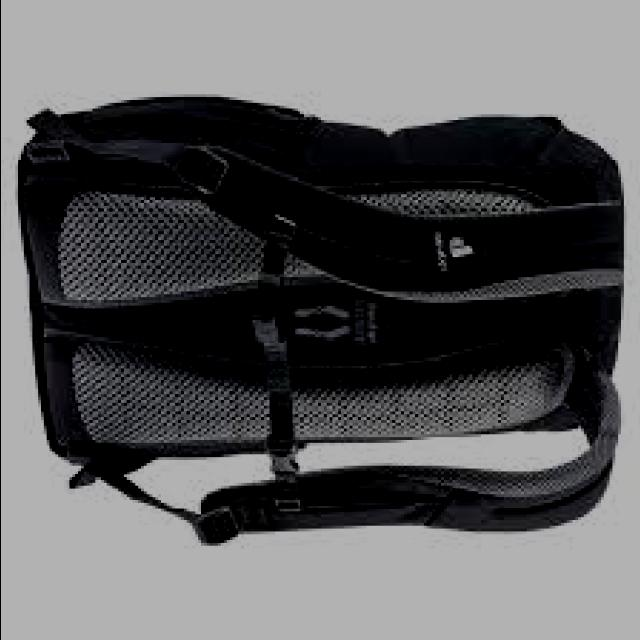backpack: (19, 95, 627, 547)
